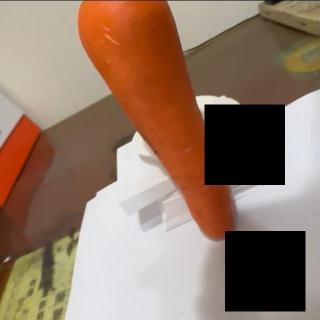carrot: (75, 0, 238, 240)
